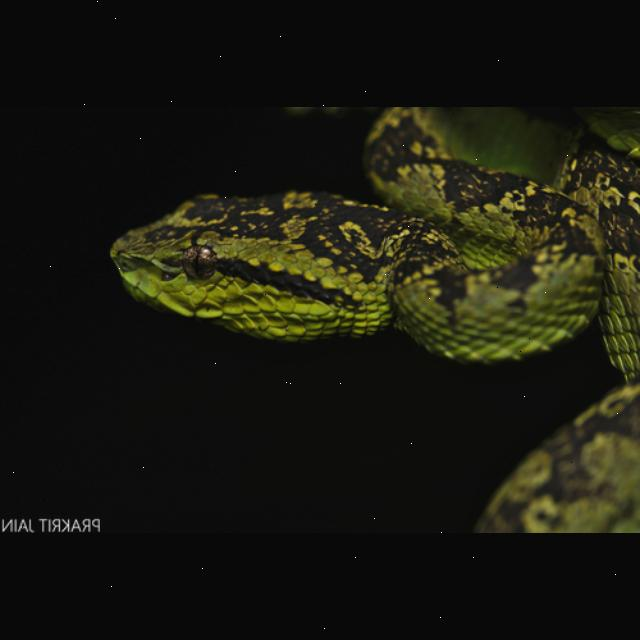snake: (100, 114, 638, 392)
